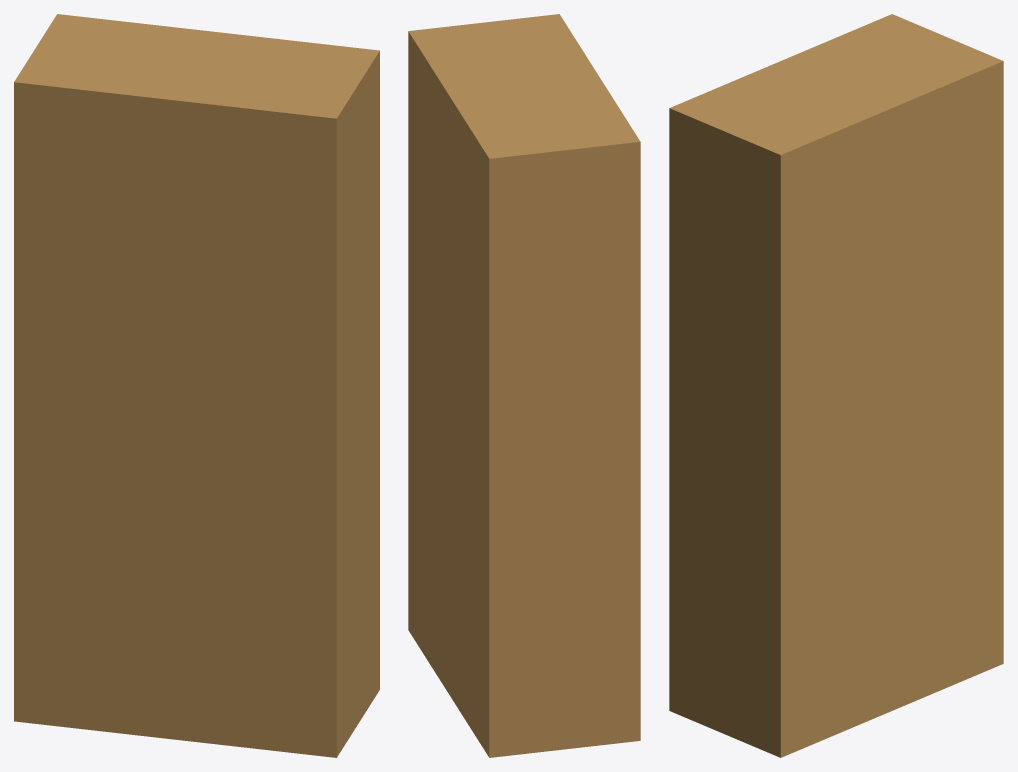
3 renders of one model, left to right at view 1: azimuth 30°, elevation 25°; view 2: azimuth 150°, elevation 25°; view 3: azimuth 270°, elevation 25°, orthographic. The views are drawn at different scales.
Visible parts, largest first — view 1: RUN-019-S00-STUD-02-p2; view 2: RUN-019-S00-STUD-02-p2; view 3: RUN-019-S00-STUD-02-p2.
Boxes of the visible parts, x1=… form: RUN-019-S00-STUD-02-p2: x1=14, y1=14, x2=379, y2=757; RUN-019-S00-STUD-02-p2: x1=408, y1=14, x2=640, y2=757; RUN-019-S00-STUD-02-p2: x1=669, y1=14, x2=1003, y2=757.
Bounding box in the file's own units: 0.0955 × 0.19 × 0.0955.
